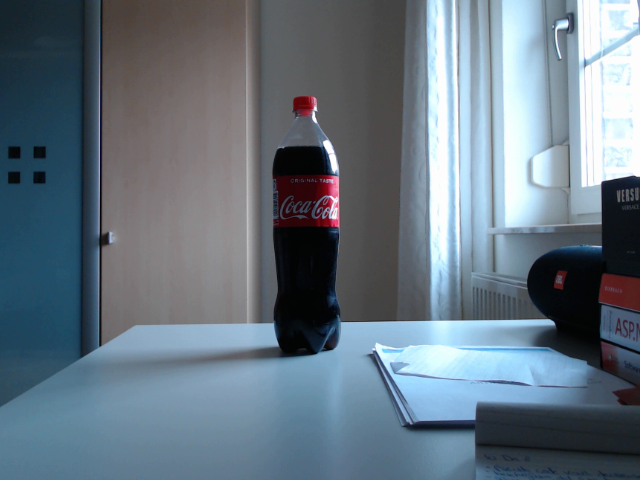bottle: (272, 95, 341, 355)
